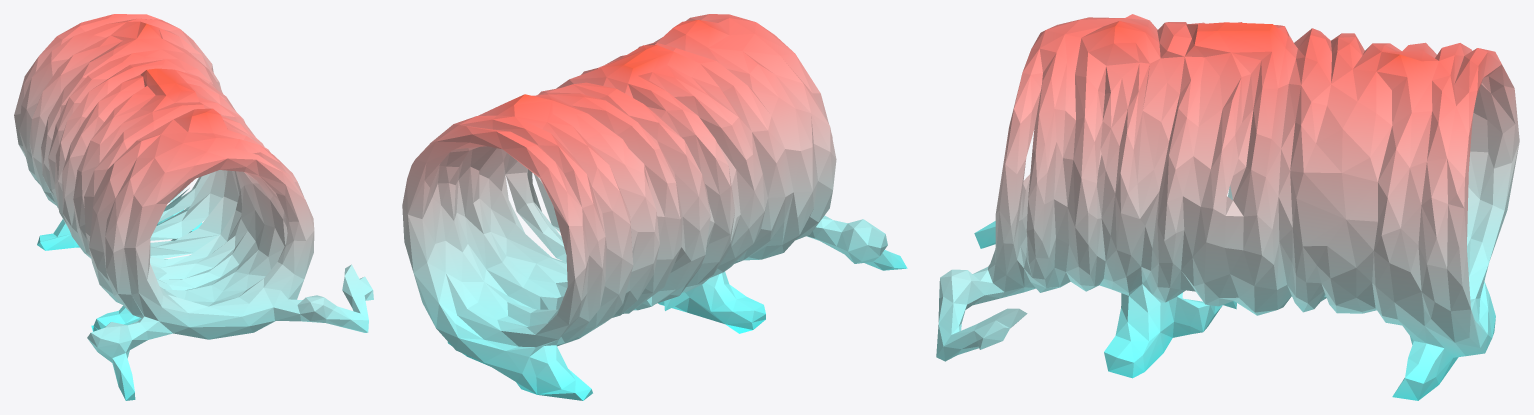
The model's file is 91_cyb_laser_gradient_fish_scales_2837_2026_10_03_cbe7c9.glb.
3 views of the same model, side by side, from view 1: azimuth 30°, elevation 25°; view 2: azimuth 150°, elevation 25°; view 3: azimuth 270°, elevation 25° (orthographic). The views are drawn at different scales.
Parts seen in each view (by area): view 1: geometry_0; view 2: geometry_0; view 3: geometry_0.
Boxes of the visible parts, x1,y1,x2,y2 form: geometry_0: (14,14,373,400); geometry_0: (402,14,907,400); geometry_0: (936,14,1519,400).
Size of the model in its own units: 0.7199 by 0.5811 by 0.9971.
